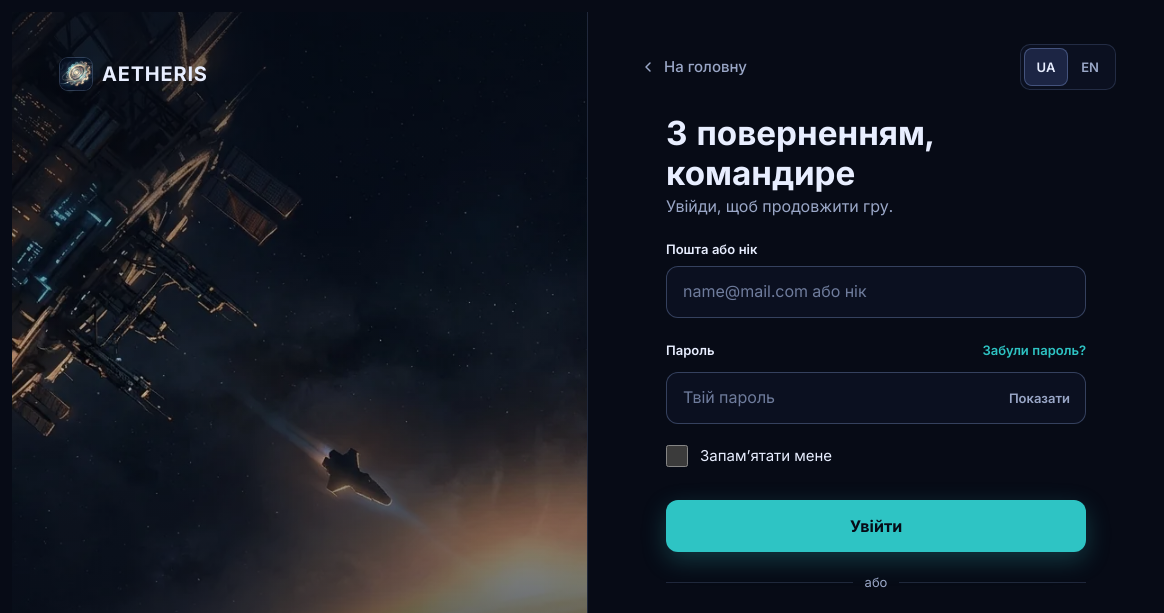
Test: LoginPage › shows wrong credentials on the alert and on the password field
The image size is (1164, 613).
Step 1. Type "pilot@example.test" into the field labelled "Пошта або нік" → (876, 292), box [666, 266, 1086, 318]
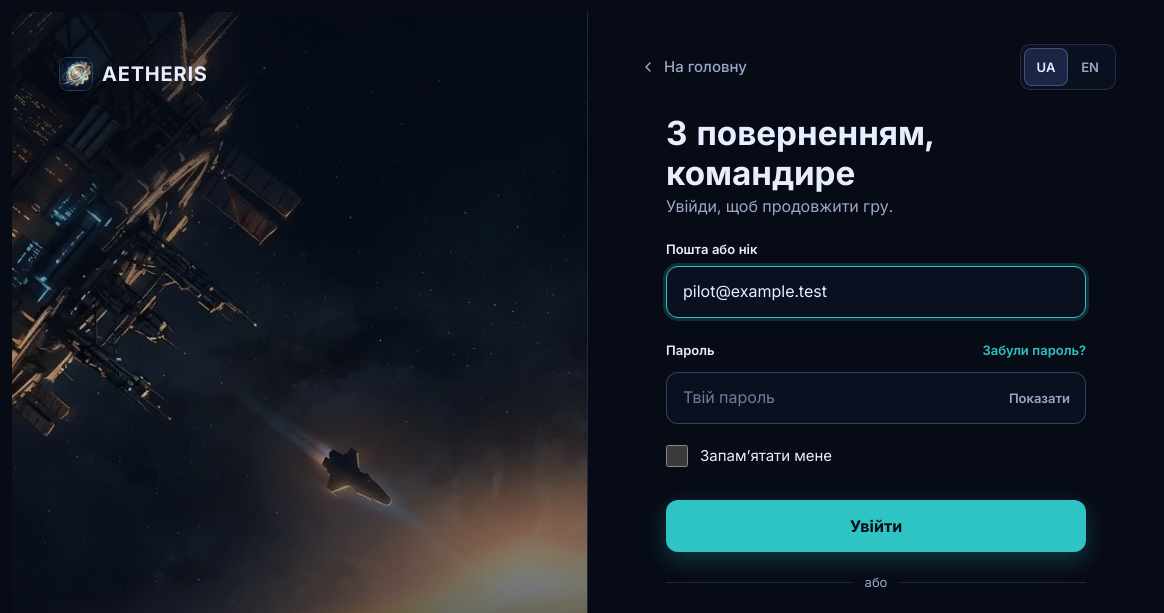
Step 2. Type "wrong-password" into the password field labelled "Пароль" → (876, 398), box [666, 372, 1086, 424]
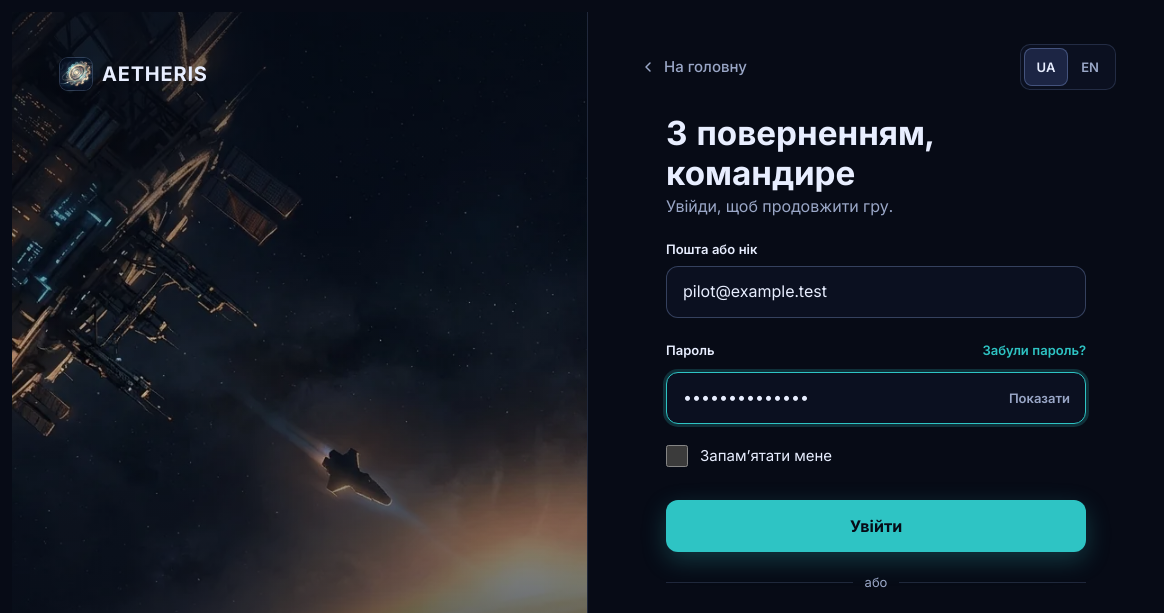
Step 3. Click the button "Увійти" → (876, 526), box [666, 500, 1086, 552]
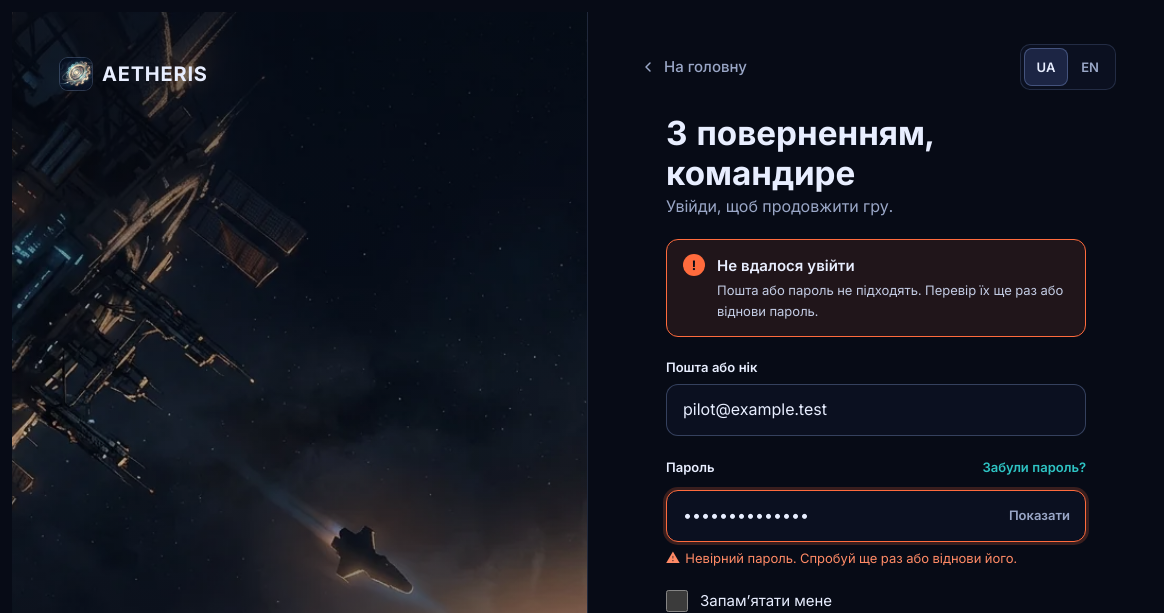
Expected: the message shows "Не вдалося увійти", [717, 256, 855, 275]
Expected: the text "Невірний пароль. Спробуй ще раз або віднови його." is shown, [685, 550, 1017, 566]
